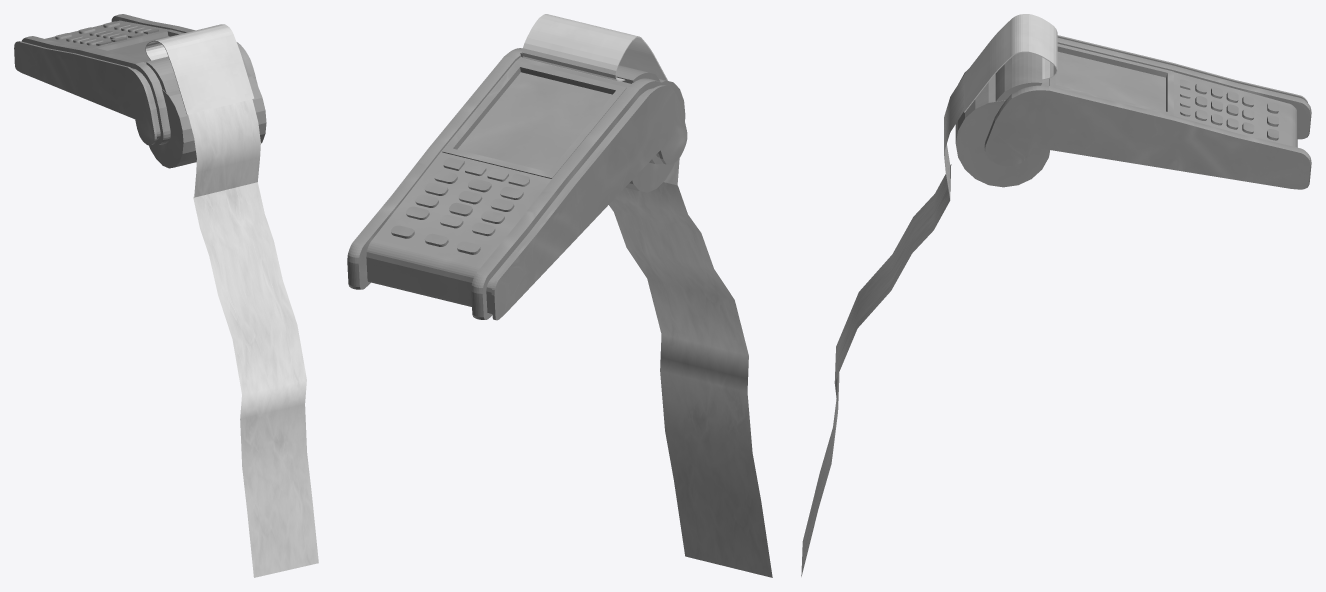
Rendered from card machine.fbx.
3 views of the same model, side by side, from view 1: azimuth 30°, elevation 25°; view 2: azimuth 150°, elevation 25°; view 3: azimuth 270°, elevation 25° (orthographic). The views are drawn at different scales.
Bounding box in the file's own units: 2.23 × 9.3 × 8.11.
2 materials, 2 textured.
